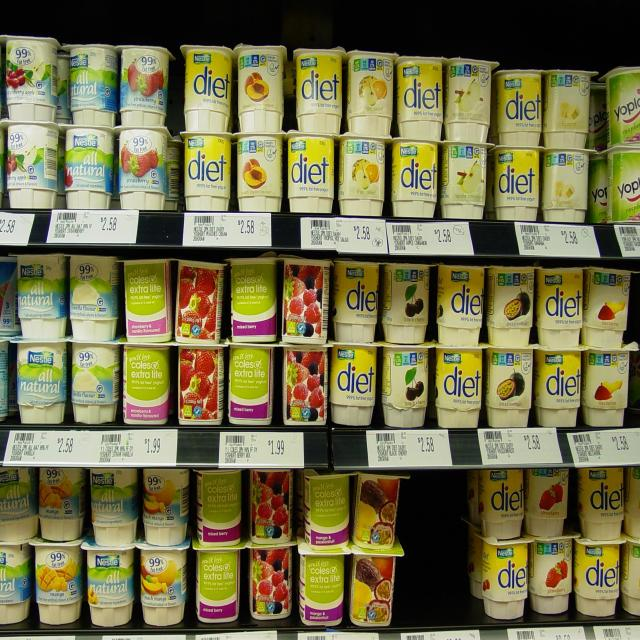empty_space: (407, 480, 468, 612)
